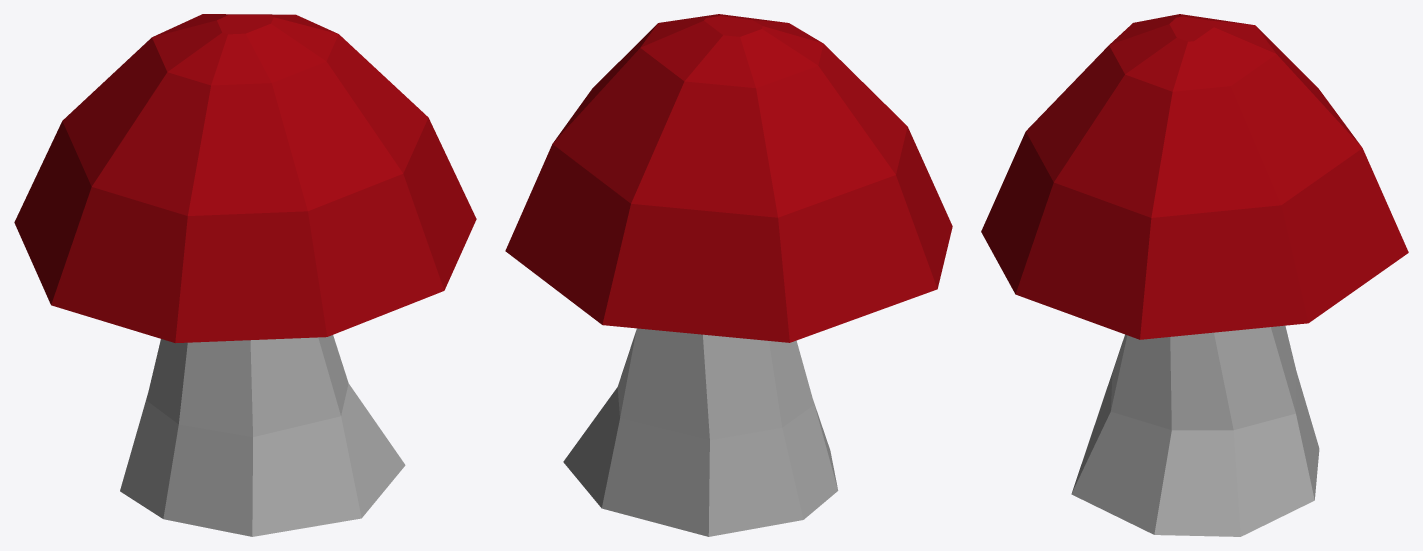
File: Mushroom.fbx
3 renders of one model, left to right at view 1: azimuth 30°, elevation 25°; view 2: azimuth 150°, elevation 25°; view 3: azimuth 270°, elevation 25°, orthographic. The views are drawn at different scales.
Visible parts, largest first — view 1: Plane, Cube; view 2: Plane, Cube; view 3: Plane, Cube.
Part boxes in pixels (x1,y1,x2,y2): Plane: (14,14,476,343); Cube: (120,335,405,536); Plane: (505,14,952,342); Cube: (563,328,838,536); Plane: (981,14,1408,339); Cube: (1071,325,1319,536).
Size of the model in its own units: 473 by 514 by 452.
